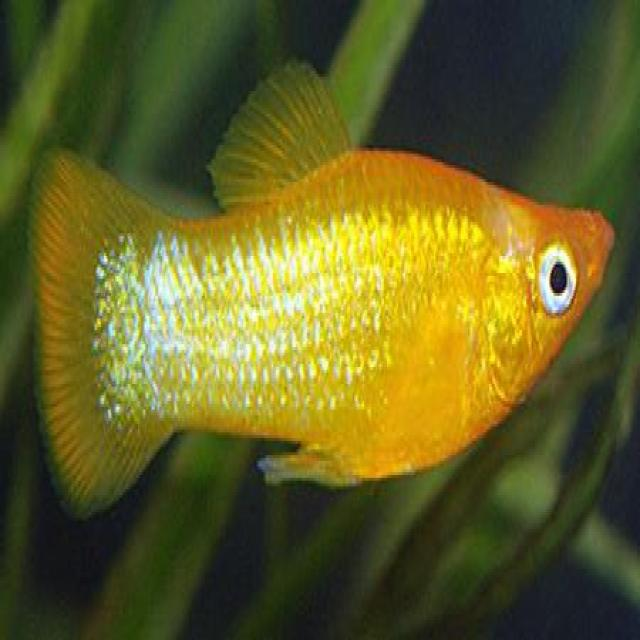PlatyFish: (19, 44, 621, 590)
